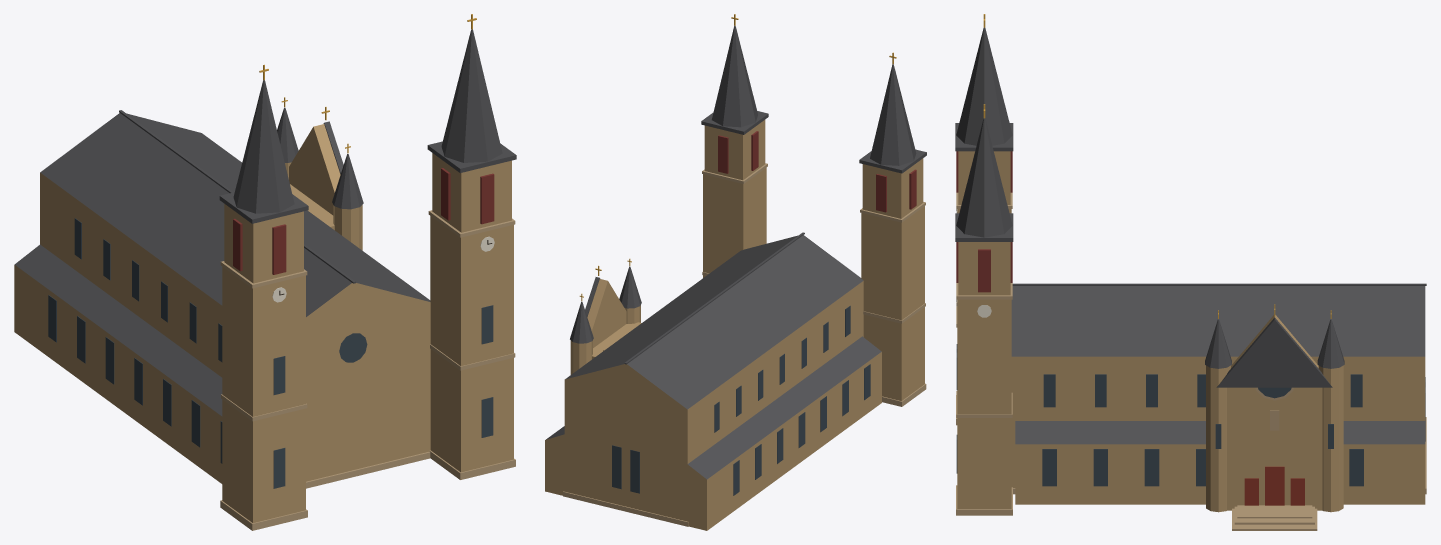
The model's file is saint_meinrad_archabbey.meshopt.glb.
The picture shows the model from 3 angles, left to right: view 1: azimuth 30°, elevation 25°; view 2: azimuth 150°, elevation 25°; view 3: azimuth 270°, elevation 25°; orthographic projection. The views are drawn at different scales.
Visible parts, largest first — view 1: nave, aisle_w_0, tower_n, tower_s, tower_s_spire, tower_n_spire, tower_s_belfry, tower_n_belfry, entrance_gable, turret_w_roof, turret_w, plinth (+9 smaller); view 2: nave, aisle_w_0, tower_s, tower_n, tower_s_spire, tower_n_spire, tower_n_belfry, tower_s_belfry, entrance_gable, aisle_e_1, plinth, ridge_cap (+6 smaller); view 3: nave, aisle_e_0, tower_n, entrance, aisle_e_1, entrance_roof, tower_n_spire, tower_s_spire, turret_e, turret_w, tower_n_belfry, ridge_cap (+13 smaller).
Boxes of the visible parts, left/top/right/bottom form: nave: left=40, top=113, right=430, bottom=481; aisle_w_0: left=14, top=244, right=222, bottom=483; tower_n: left=430, top=216, right=513, bottom=472; tower_s: left=222, top=267, right=305, bottom=522; tower_s_spire: left=233, top=80, right=294, bottom=213; tower_n_spire: left=441, top=29, right=502, bottom=162; tower_s_belfry: left=224, top=204, right=303, bottom=283; tower_n_belfry: left=432, top=153, right=511, bottom=232; entrance_gable: left=289, top=124, right=340, bottom=215; turret_w_roof: left=332, top=154, right=363, bottom=209; turret_w: left=333, top=205, right=362, bottom=250; plinth: left=306, top=451, right=430, bottom=488; nave: left=564, top=235, right=863, bottom=521; aisle_w_0: left=687, top=336, right=881, bottom=530; tower_s: left=861, top=206, right=924, bottom=400; tower_n: left=703, top=167, right=766, bottom=277; tower_s_spire: left=870, top=64, right=916, bottom=165; tower_n_spire: left=711, top=25, right=757, bottom=127; tower_n_belfry: left=704, top=120, right=765, bottom=180; tower_s_belfry: left=862, top=158, right=923, bottom=218; entrance_gable: left=587, top=279, right=626, bottom=347; aisle_e_1: left=545, top=426, right=564, bottom=495; plinth: left=563, top=491, right=688, bottom=526; ridge_cap: left=624, top=232, right=804, bottom=364; nave: left=1011, top=286, right=1425, bottom=487; aisle_e_0: left=1015, top=421, right=1205, bottom=504; tower_n: left=957, top=299, right=1011, bottom=508; entrance: left=1227, top=387, right=1322, bottom=510; aisle_e_1: left=1343, top=421, right=1425, bottom=504; entrance_roof: left=1216, top=317, right=1332, bottom=387; tower_n_spire: left=956, top=118, right=1012, bottom=237; tower_s_spire: left=956, top=27, right=1012, bottom=145; turret_e: left=1318, top=365, right=1343, bottom=512; turret_w: left=1206, top=365, right=1230, bottom=512; tower_n_belfry: left=958, top=242, right=1010, bottom=295; ridge_cap: left=1012, top=283, right=1426, bottom=285.
Size of the model in its own units: 36.11 by 51.6 by 55.23.
